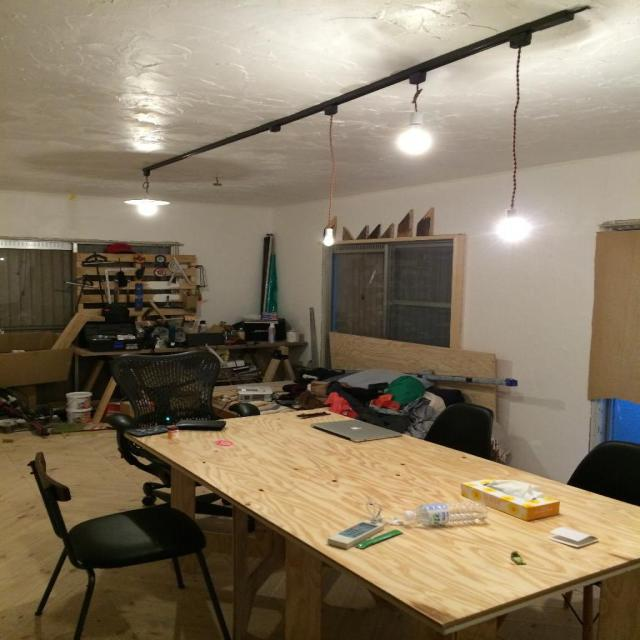chair: (28, 451, 231, 640), (105, 349, 230, 513), (566, 440, 640, 505), (424, 403, 494, 460)
desk: (123, 408, 639, 640)
laptop: (312, 418, 401, 444)
